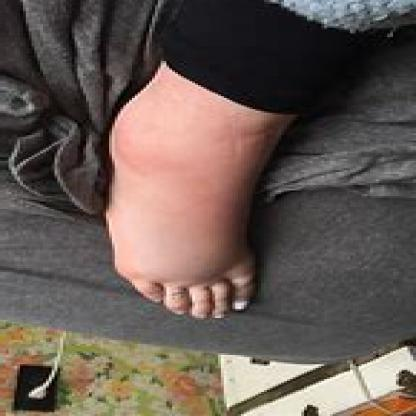Wasp: (121, 114, 252, 288)
